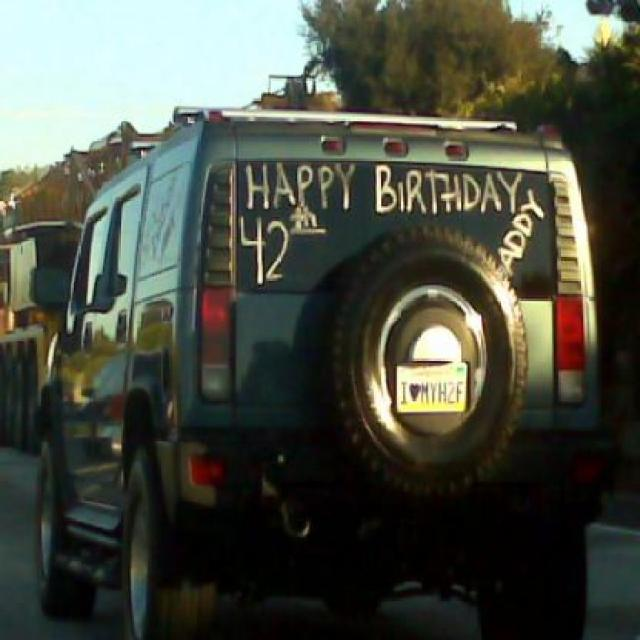License-Plates: (389, 359, 474, 416)
